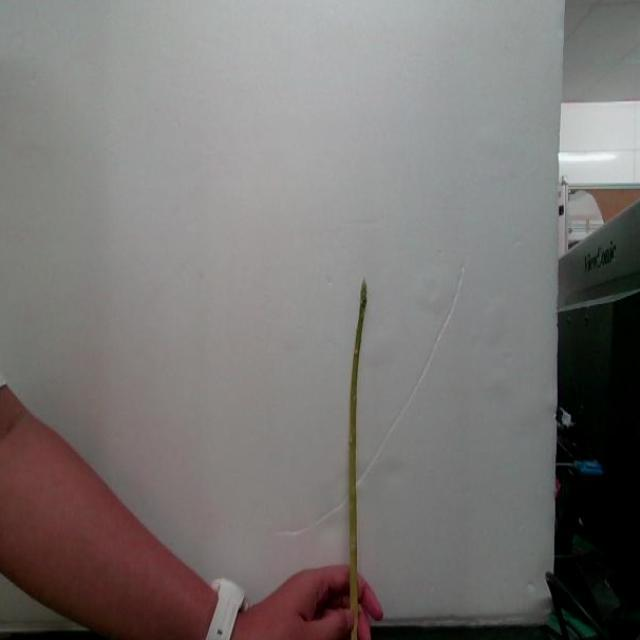aspargus: (346, 283, 371, 640)
